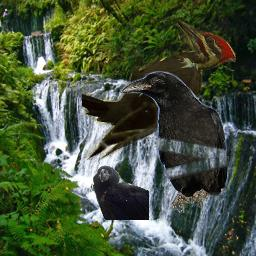Crow: (120, 71, 229, 213), (92, 165, 149, 220)
Woodpecker: (82, 20, 236, 163)
